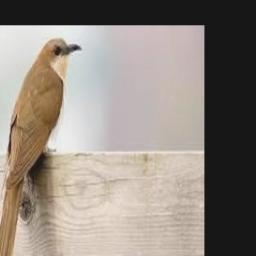Cuckoo: (0, 38, 83, 256)
